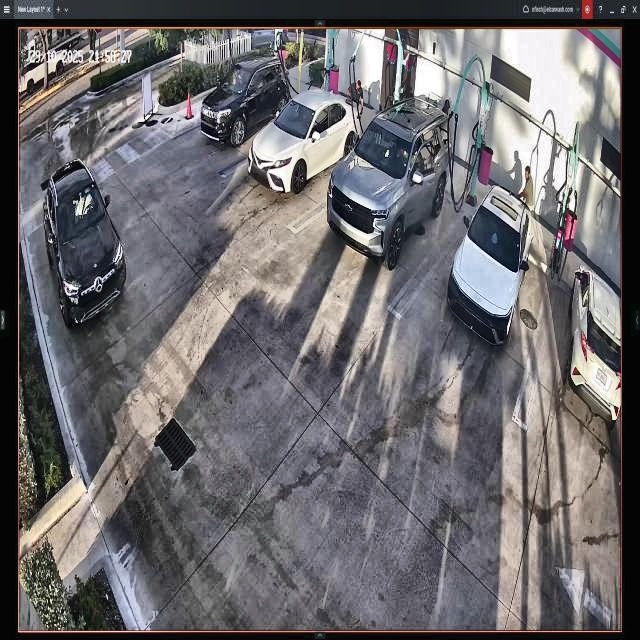Car: (328, 98, 448, 268), (450, 185, 533, 345), (249, 93, 363, 193)
